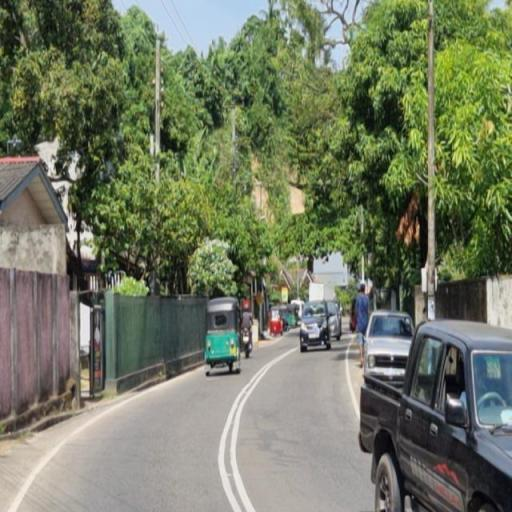double_white_line: (216, 351, 264, 512)
